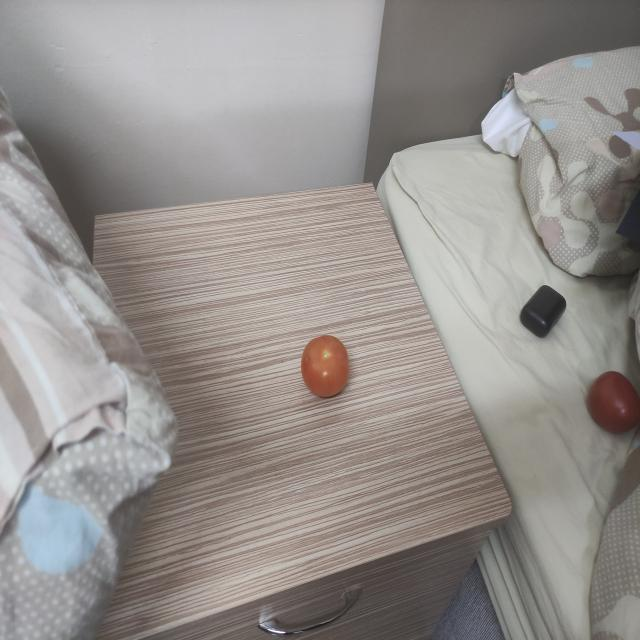sari: (293, 328, 360, 402)
